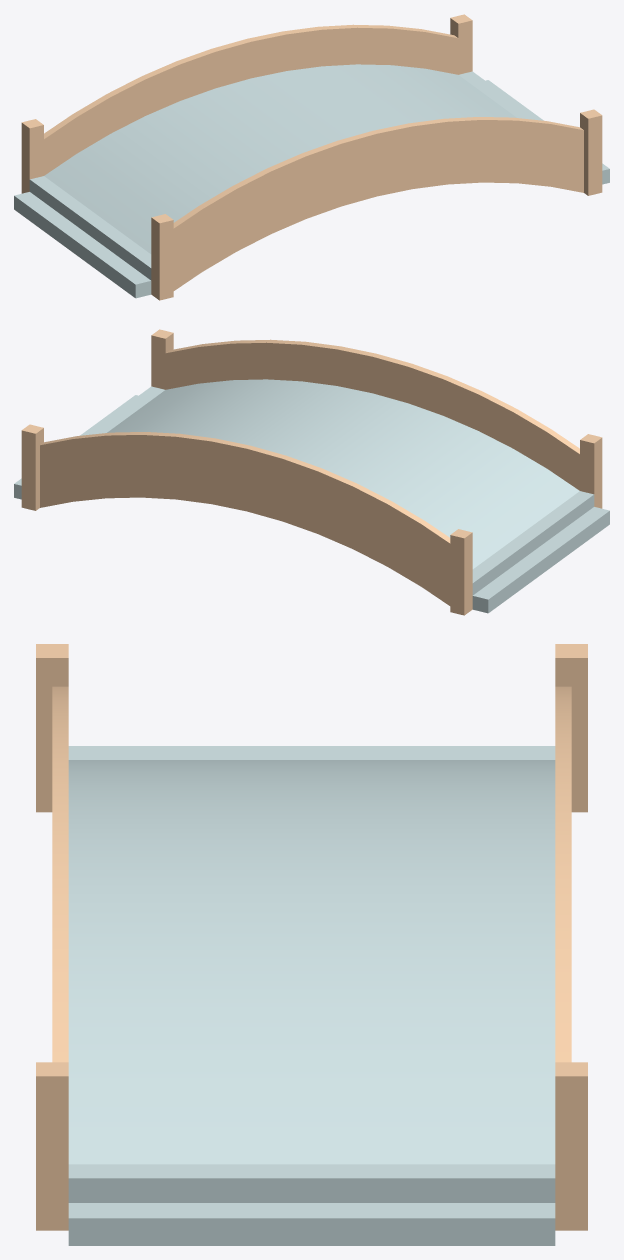
File: bridge_arch.glb
3 views of the same model, one above another, from view 1: azimuth 30°, elevation 25°; view 2: azimuth 150°, elevation 25°; view 3: azimuth 270°, elevation 25° (orthographic). The views are drawn at different scales.
Visible parts, largest first — view 1: bridge_arch; view 2: bridge_arch; view 3: bridge_arch.
Boxes of the visible parts, x1,y1,x2,y2 form: bridge_arch: (14,14,609,300); bridge_arch: (14,329,609,615); bridge_arch: (36,644,587,1245).
Bounding box in the file's own units: 0.9495 × 0.21 × 0.4784.
